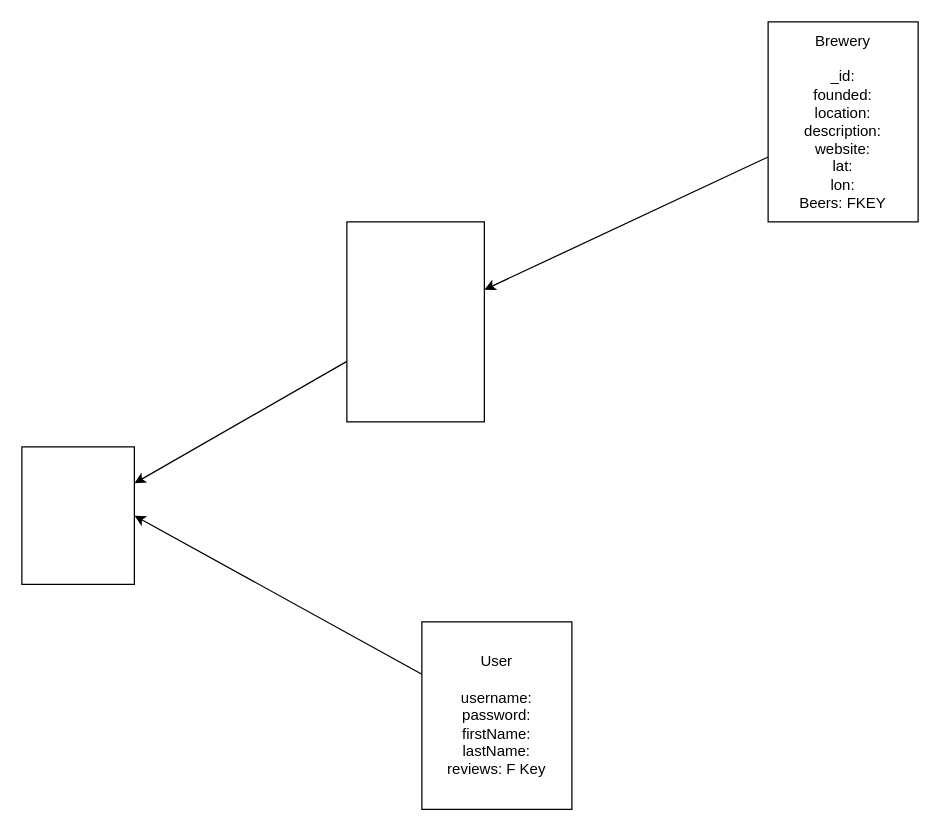
This 940x831 diagram has some shape labels left out. The centre of each missing label's shape, as x and y in pixels:
Beers _id: name: style: abv: brewery: FKEY description reviews: FKEY: pixel 415 321
Reviews _id: rating: review: beer: FKEY user: FKEY: pixel 77 515
